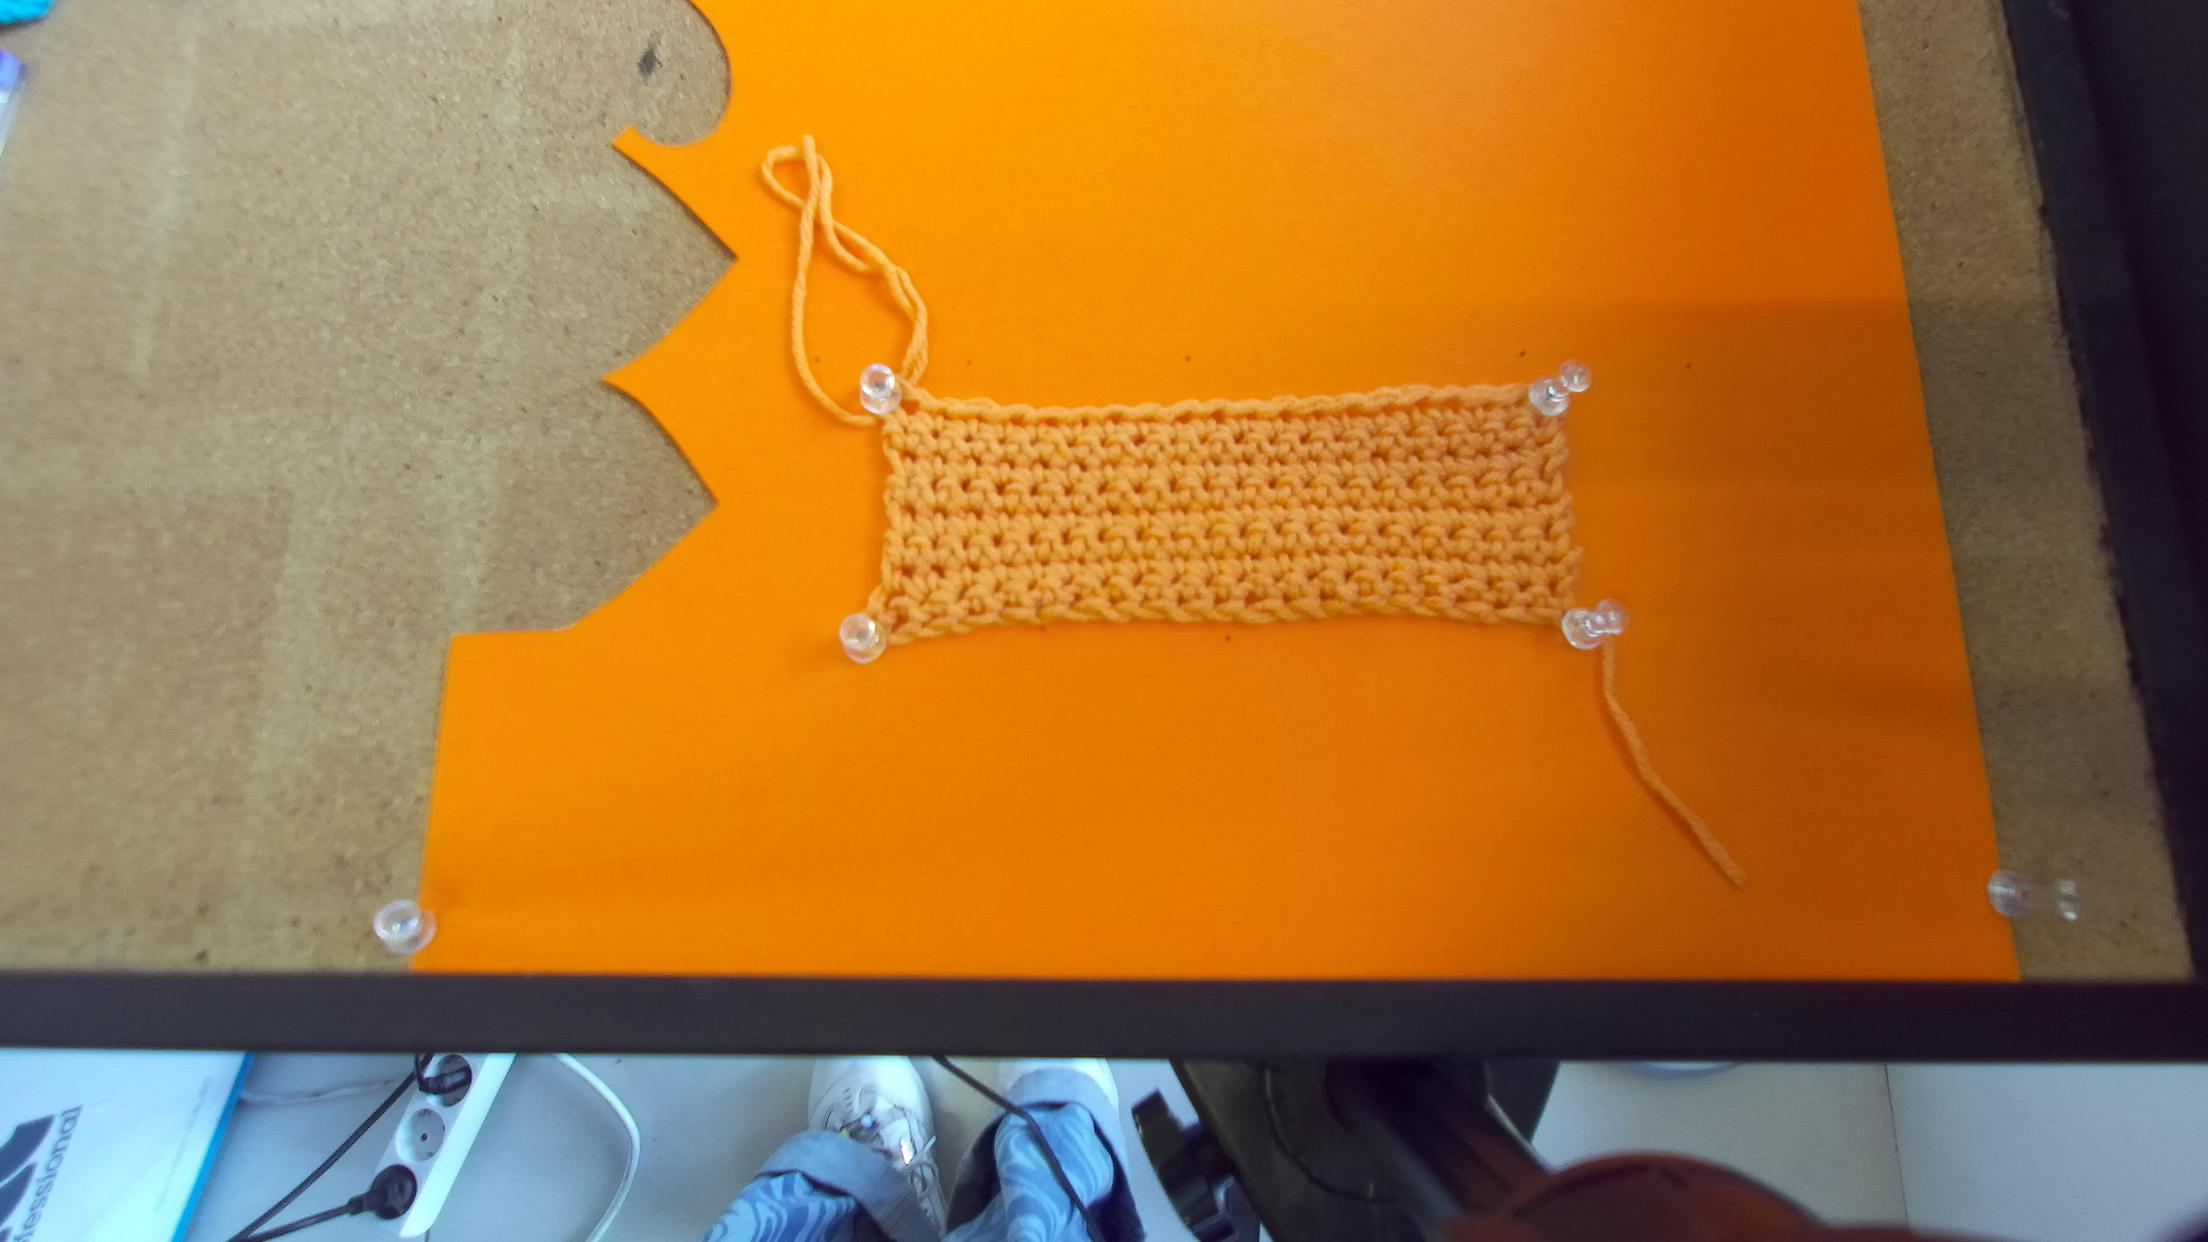hole: (899, 399, 921, 416), (1442, 397, 1462, 412), (1174, 411, 1193, 425), (1210, 408, 1225, 425), (1415, 397, 1430, 414), (1345, 405, 1363, 419), (1380, 403, 1398, 417), (1480, 400, 1498, 412), (1310, 409, 1325, 423), (1010, 416, 1025, 428), (1109, 412, 1122, 425), (1045, 417, 1060, 428), (1142, 414, 1159, 423), (939, 408, 951, 420), (1080, 416, 1090, 429), (1280, 409, 1291, 423), (1512, 397, 1526, 408), (975, 412, 990, 422), (1245, 411, 1257, 420)
swatch: (858, 370, 1586, 649)
